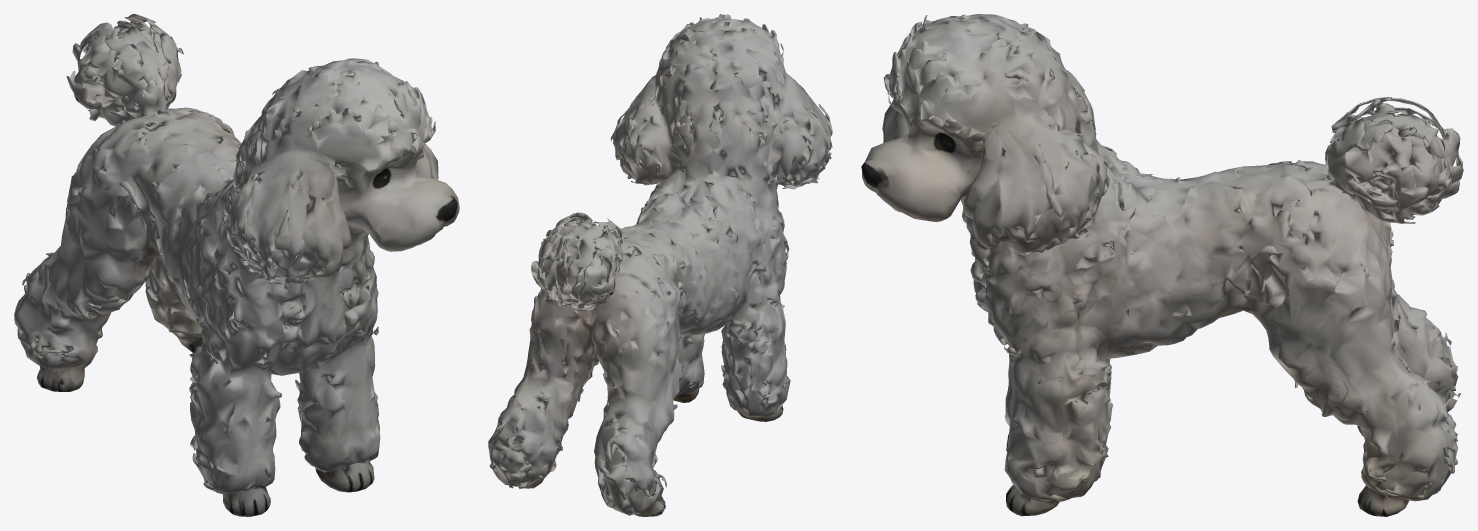
Rendered from lia.glb.
The picture shows the model from 3 angles, left to right: view 1: azimuth 30°, elevation 25°; view 2: azimuth 150°, elevation 25°; view 3: azimuth 270°, elevation 25°; orthographic projection. The views are drawn at different scales.
Parts seen in each view (by area): view 1: tripo_node_55d5d1de-6948-4ebb-a9be-a6689e3a90a8; view 2: tripo_node_55d5d1de-6948-4ebb-a9be-a6689e3a90a8; view 3: tripo_node_55d5d1de-6948-4ebb-a9be-a6689e3a90a8.
Boxes of the visible parts, x1,y1,x2,y2 form: tripo_node_55d5d1de-6948-4ebb-a9be-a6689e3a90a8: (14,14,459,516); tripo_node_55d5d1de-6948-4ebb-a9be-a6689e3a90a8: (488,14,832,516); tripo_node_55d5d1de-6948-4ebb-a9be-a6689e3a90a8: (861,14,1463,516).
Bounding box in the file's own units: 0.4599 × 0.8651 × 0.9989.
Materials: 1 (1 with a texture image).
